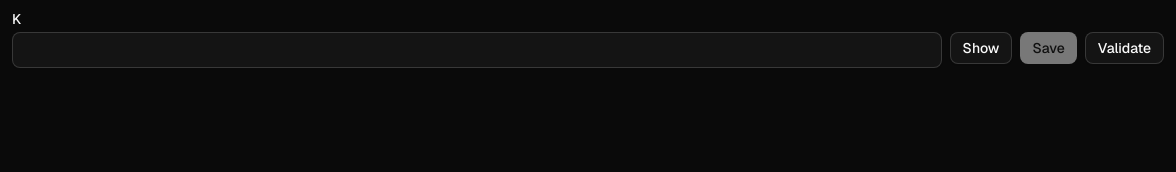
it: CredentialInput — validate › validation throw (e.g. credential not configured) surfaces error
Expected: the password field labelled "K" is shown, [12,32,942,68]
Click the button "Validate" at (1124, 48), box [1085,32,1164,64]
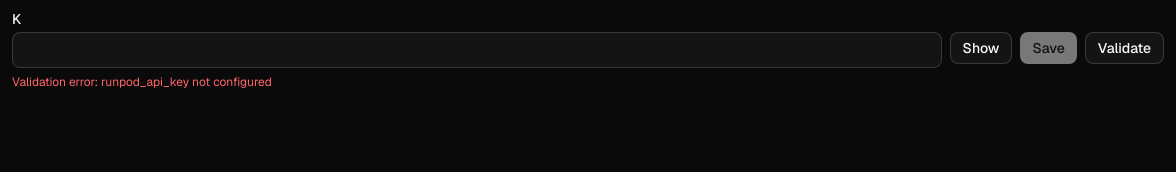
Expected: the text "Validation error: runpod_api_key not configured" is shown, [12,74,272,90]
